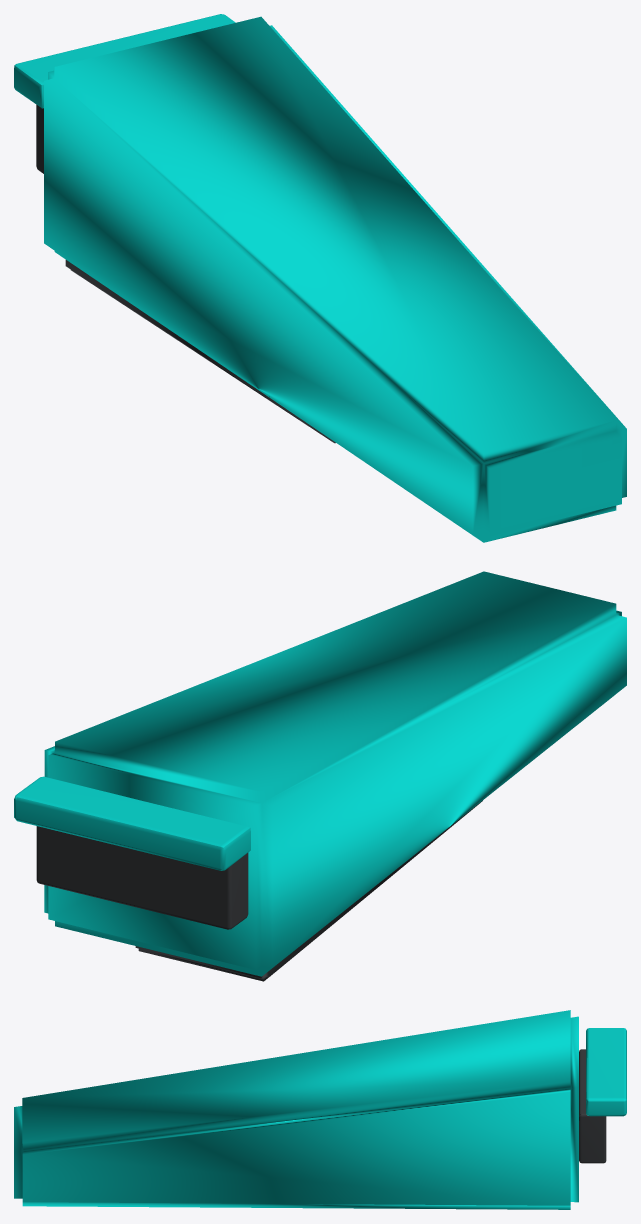
Rendered from f1_sidepod_l_downwash.glb.
The picture shows the model from 3 angles, top to bottom: view 1: azimuth 30°, elevation 25°; view 2: azimuth 150°, elevation 25°; view 3: azimuth 270°, elevation 25°; orthographic projection. The views are drawn at different scales.
Visible parts, largest first — view 1: F1_Sidepod_L_Downwash; view 2: F1_Sidepod_L_Downwash; view 3: F1_Sidepod_L_Downwash.
Boxes of the visible parts, x1=… form: F1_Sidepod_L_Downwash: x1=14, y1=14, x2=626, y2=542; F1_Sidepod_L_Downwash: x1=14, y1=571, x2=626, y2=981; F1_Sidepod_L_Downwash: x1=14, y1=1010, x2=626, y2=1209.
Bounding box in the file's own units: 0.5374 × 0.4561 × 1.79.
